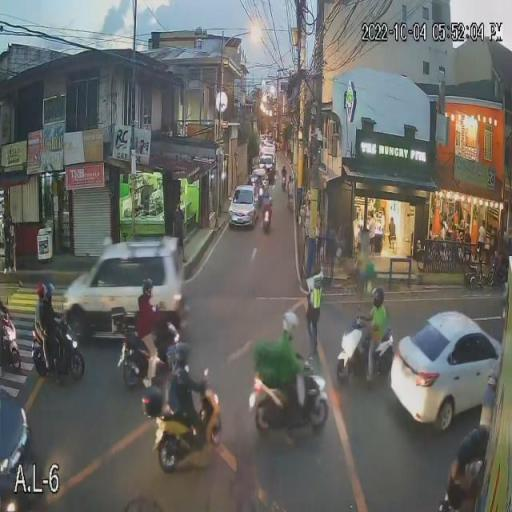helmet: (171, 342, 193, 371), (282, 312, 299, 337), (369, 286, 385, 308), (140, 279, 156, 299), (35, 281, 46, 296), (45, 284, 55, 298)
motorcycle: (153, 389, 223, 473), (247, 376, 330, 432), (336, 326, 398, 382), (31, 324, 87, 379), (116, 324, 166, 385), (0, 314, 23, 368), (262, 206, 272, 229)
rider: (167, 369, 205, 463), (273, 336, 302, 444), (135, 304, 158, 387), (363, 306, 387, 382), (42, 302, 62, 357), (34, 304, 50, 358)
